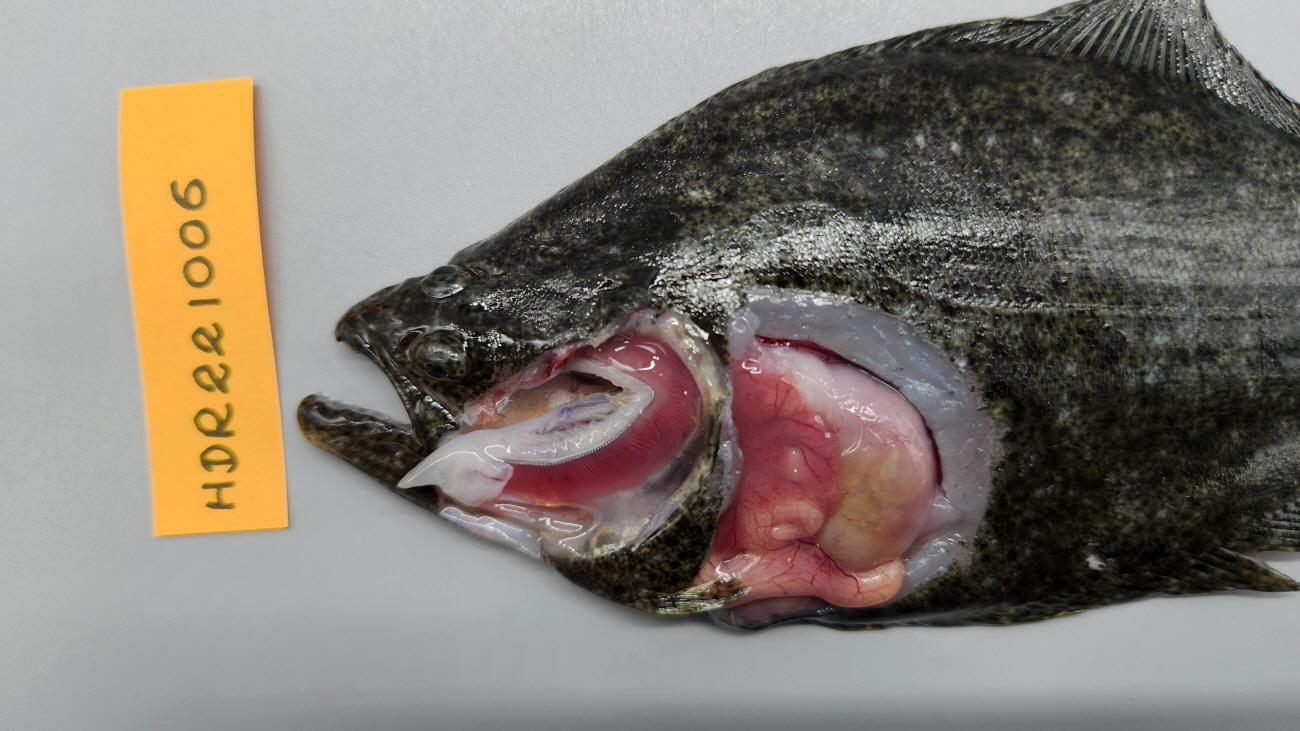POLIN: (716, 349, 841, 554)
